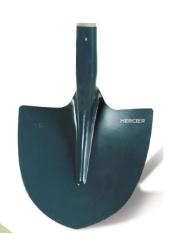PELLE: (12, 13, 171, 227)
